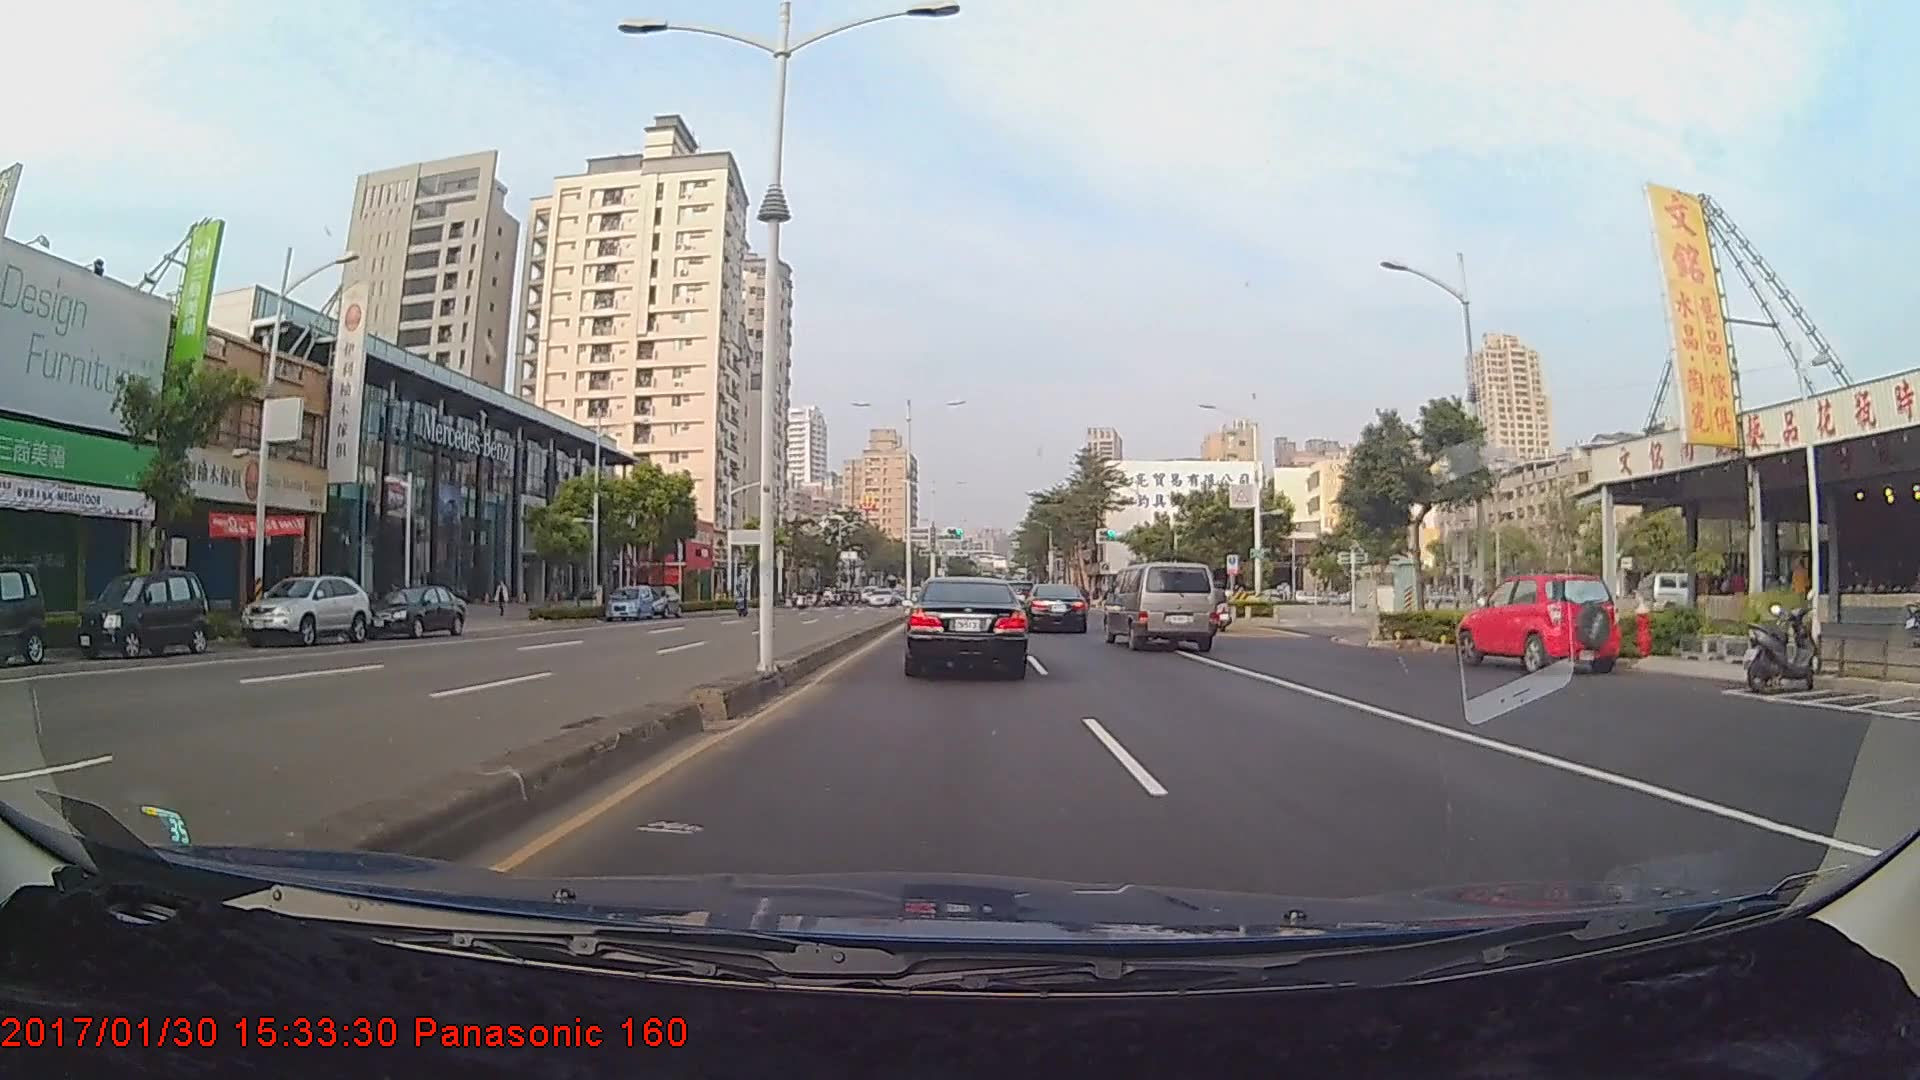pedestrian: (1789, 558, 1813, 635), (492, 579, 512, 620)
vehicle: (1461, 572, 1615, 675), (906, 575, 1027, 678), (1105, 560, 1220, 651), (238, 572, 369, 645), (123, 572, 209, 657), (367, 583, 465, 639), (0, 564, 45, 675), (1023, 583, 1089, 634), (605, 583, 654, 622), (640, 585, 680, 619)
